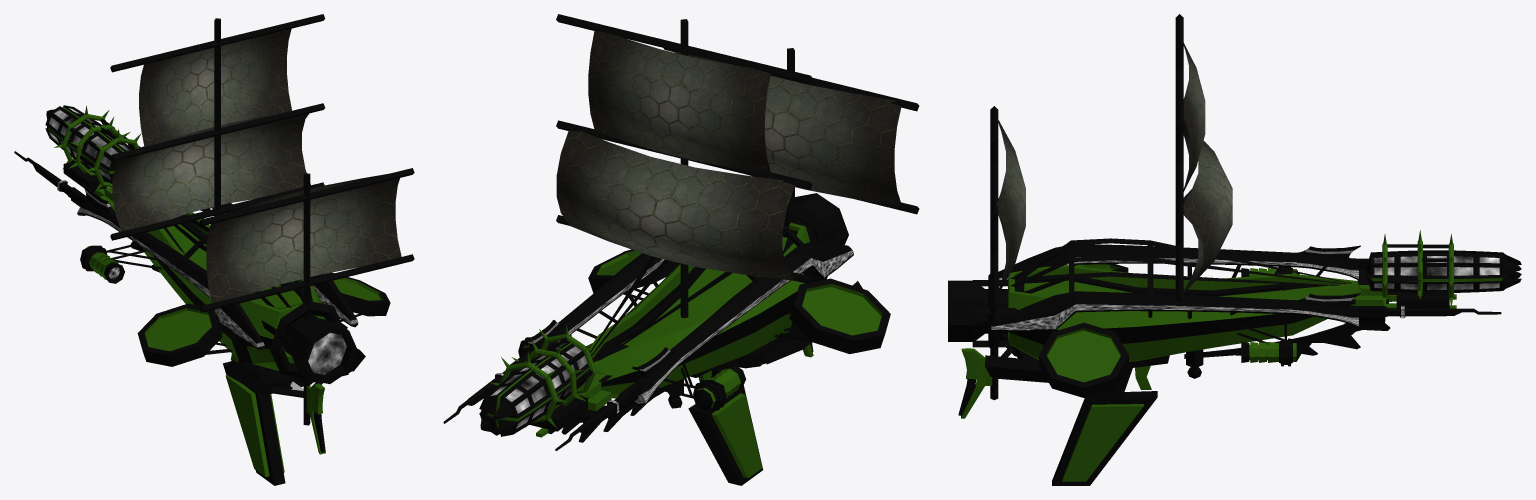
The model's file is P3ShipV2.fbx.
3 views of the same model, side by side, from view 1: azimuth 30°, elevation 25°; view 2: azimuth 150°, elevation 25°; view 3: azimuth 270°, elevation 25° (orthographic). The views are drawn at different scales.
Parts seen in each view (by area): view 1: P1VoileC, P1VoileB, P1VoileA, pCylinder1, pPlane4, pCylinder28, pCylinder25, pPlane19, pCylinder44, pPlane3, pCylinder57, pCylinder15 (+16 smaller); view 2: P1VoileB, P1VoileA, P1VoileC, pCylinder1, pPlane4, pCylinder28, pCylinder44, pPlane19, pPlane2, pCylinder19, pCylinder56, pCylinder25 (+15 smaller); view 3: pCylinder1, pPlane2, pPlane19, pCylinder44, pCylinder3, pPlane4, P1VoileB, pCylinder56, P1VoileC, pCylinder25, P1VoileA, pCylinder51 (+9 smaller).
Boxes of the visible parts, x1,y1,x2,y2 form: P1VoileC: (206,174,401,302); P1VoileB: (112,113,310,231); P1VoileA: (139,28,291,146); pCylinder1: (143,212,325,370); pPlane4: (14,151,264,350); pCylinder28: (137,303,222,366); pCylinder25: (282,314,357,383); pPlane19: (223,359,285,485); pCylinder44: (45,105,132,183); pPlane3: (226,348,365,395); pCylinder57: (199,254,414,312); pCylinder15: (110,103,325,161); P1VoileB: (556,130,795,280); P1VoileA: (588,30,770,173); P1VoileC: (675,51,901,205); pCylinder1: (579,222,812,398); pPlane4: (555,242,853,450); pCylinder28: (789,278,890,354); pCylinder44: (479,340,593,436); pPlane19: (688,358,763,485); pPlane2: (443,253,664,423); pCylinder19: (556,14,812,83); pCylinder56: (590,221,796,360); pCylinder25: (784,193,848,244); pCylinder1: (1008,265,1363,361); pPlane2: (989,291,1501,331); pPlane19: (1052,355,1169,485); pCylinder44: (1366,250,1521,292); pCylinder3: (1039,322,1128,397); pPlane4: (998,244,1368,279); P1VoileB: (1183,140,1232,293); pCylinder56: (1010,238,1351,293); P1VoileC: (996,116,1025,296); pCylinder25: (948,280,1008,341); P1VoileA: (1181,43,1205,196); pCylinder51: (1015,274,1327,296).
Bounding box in the file's own units: 10.75 × 17.75 × 21.16.
